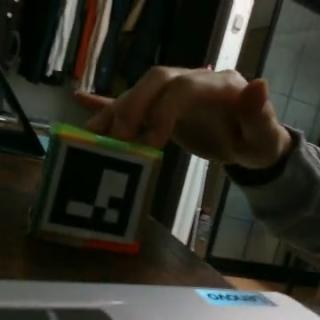armor: (39, 139, 157, 245)
robot: (27, 120, 162, 254)
